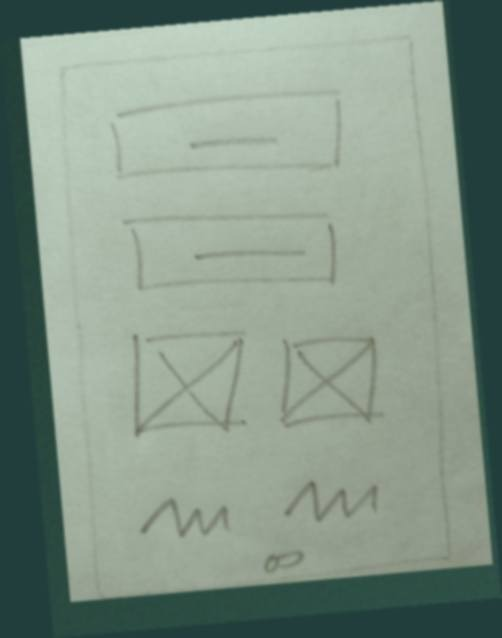button: (100, 73, 363, 198), (112, 191, 354, 312)
image: (118, 316, 263, 452), (267, 322, 397, 436)
switch: (252, 543, 314, 575)
text: (129, 484, 250, 553), (270, 465, 391, 534)
